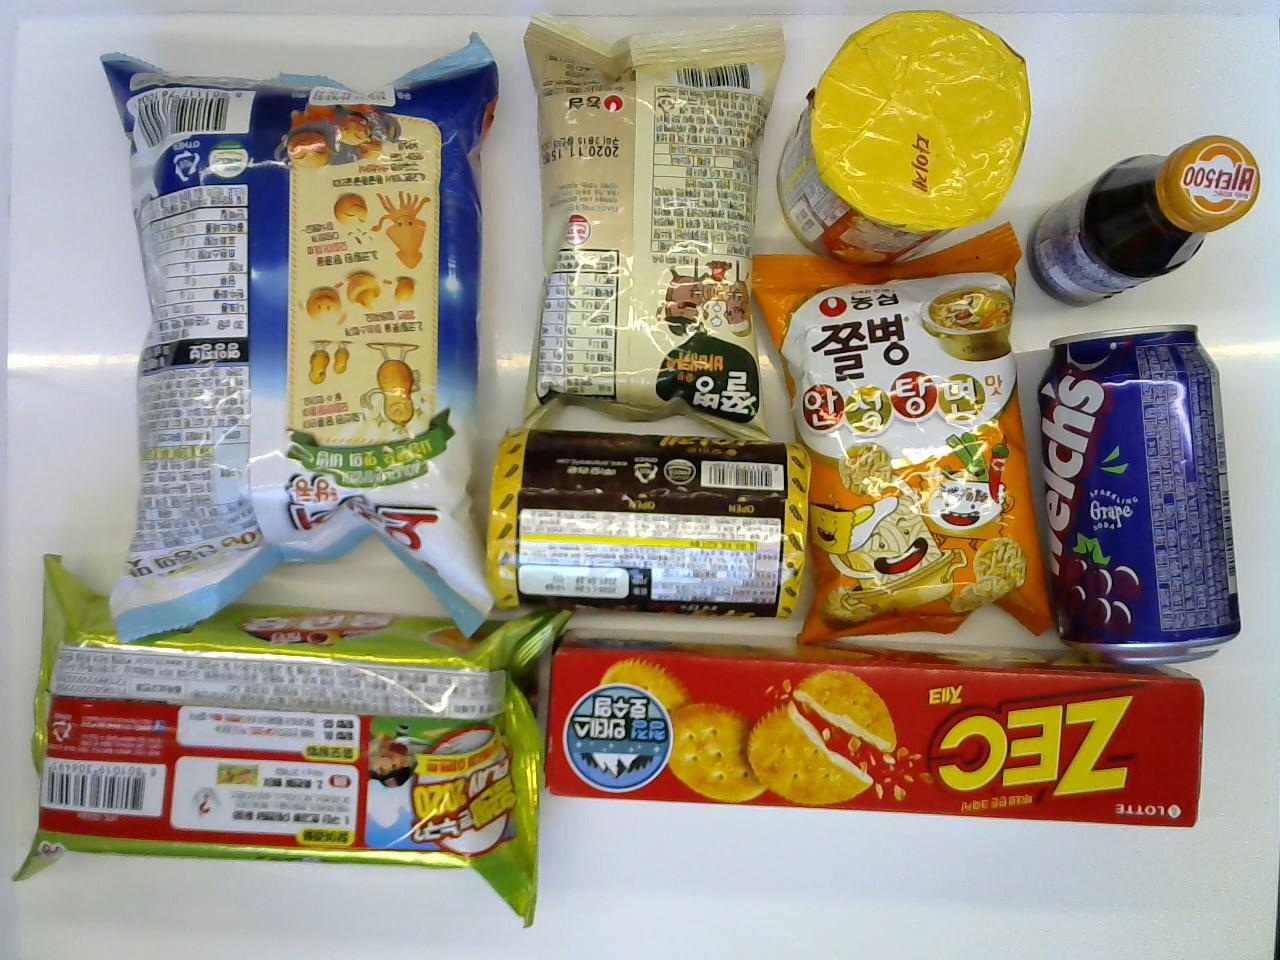diget_choco: (483, 426, 809, 616)
diget_ori: (777, 7, 1031, 264)
homerunball: (94, 28, 495, 649), (7, 552, 583, 925)
jjolbyung_noodle: (751, 219, 1054, 651)
jjolbyung_ori: (516, 14, 783, 434)
vita500: (1022, 132, 1262, 306)
welchs: (1031, 322, 1242, 669)
zec: (546, 624, 1204, 829)
